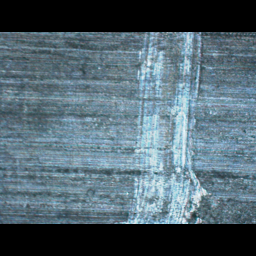d: (119, 32, 214, 223)
